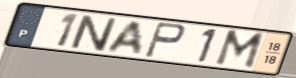1: (52, 12, 81, 48), (195, 28, 221, 64)
A: (105, 19, 144, 56)
M: (212, 28, 267, 71)
N: (69, 13, 119, 54)
P: (142, 21, 188, 60)
